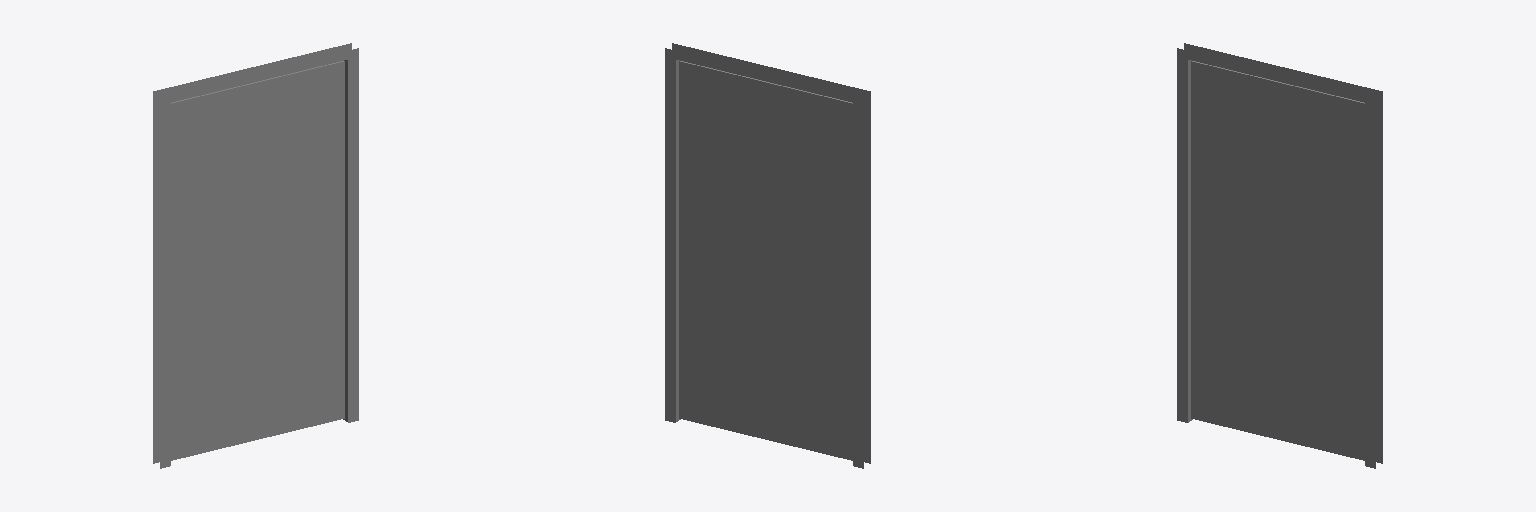
The model's file is door.obj.
3 renders of one model, left to right at view 1: azimuth 30°, elevation 25°; view 2: azimuth 150°, elevation 25°; view 3: azimuth 330°, elevation 25°, orthographic.
Parts seen in each view (by area): view 1: InteriorDoor, InteriorDoorProfile; view 2: InteriorDoor, InteriorDoorProfile; view 3: InteriorDoor, InteriorDoorProfile.
Part boxes in pixels (left/top/right/bottom): InteriorDoor: left=171, top=61, right=344, bottom=460; InteriorDoorProfile: left=153, top=43, right=358, bottom=468; InteriorDoor: left=679, top=61, right=852, bottom=460; InteriorDoorProfile: left=665, top=43, right=870, bottom=468; InteriorDoor: left=1191, top=61, right=1364, bottom=460; InteriorDoorProfile: left=1177, top=43, right=1382, bottom=468.
Size of the model in its own units: 51.91 by 92.83 by 3.14.